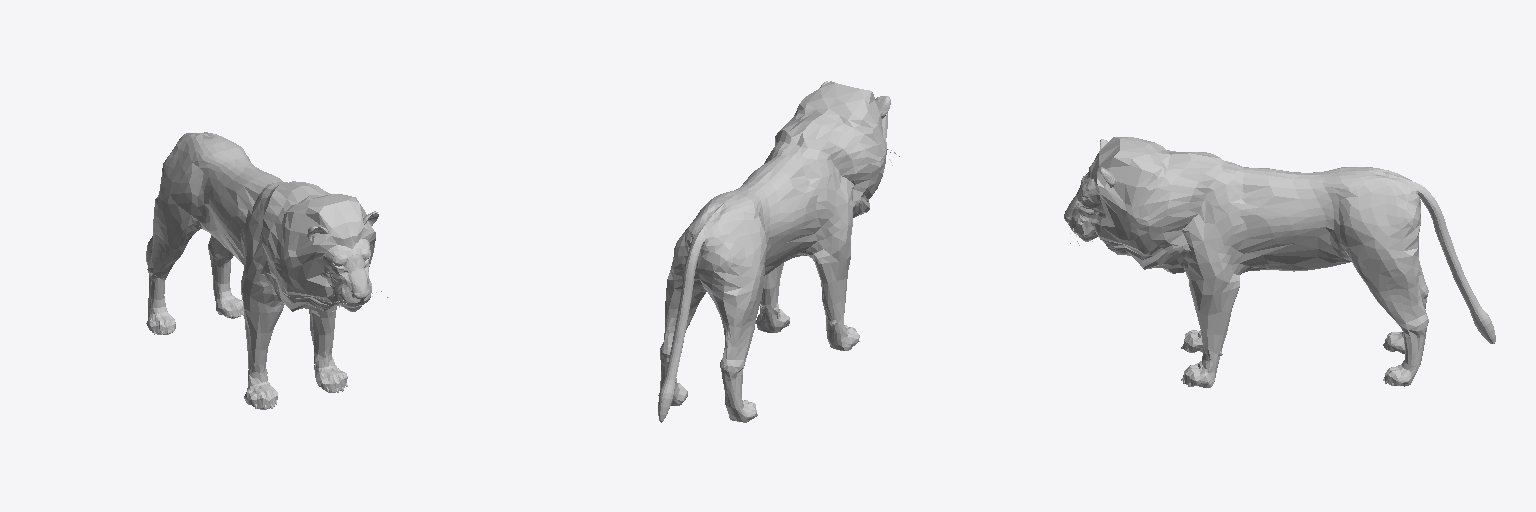
File: LION_M.OBJ
3 views of the same model, side by side, from view 1: azimuth 30°, elevation 25°; view 2: azimuth 150°, elevation 25°; view 3: azimuth 270°, elevation 25° (orthographic).
Parts seen in each view (by area): view 1: lion_body; view 2: lion_body; view 3: lion_body.
Part boxes in pixels (x1,y1,x2,y2): lion_body: (146, 132, 378, 409); lion_body: (658, 81, 890, 422); lion_body: (1064, 137, 1495, 387).
Bounding box in the file's own units: 0.6129 × 1.33 × 2.33.